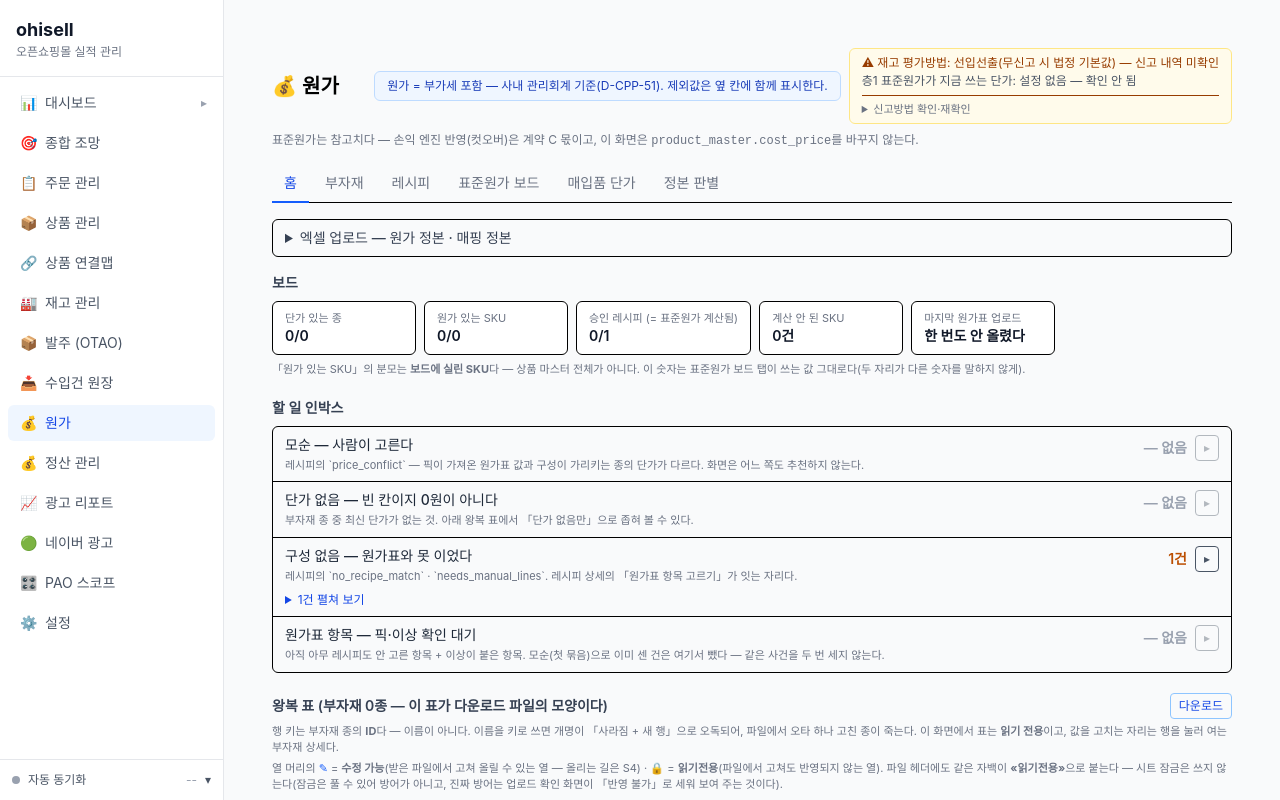
Test: ★원가표 픽이 사람에게 닿는 경로 — 라우트·페이지·호출부가 한 줄로 이어진다 › PICK-1·2: 레시피 상세에 「원가표 항목 고르기」 패널이 실제로 뜬다
Expected: the heading "💰 원가" is shown, [272,72,339,100]
Click the button "레시피": (411, 184) [380,165,442,203]
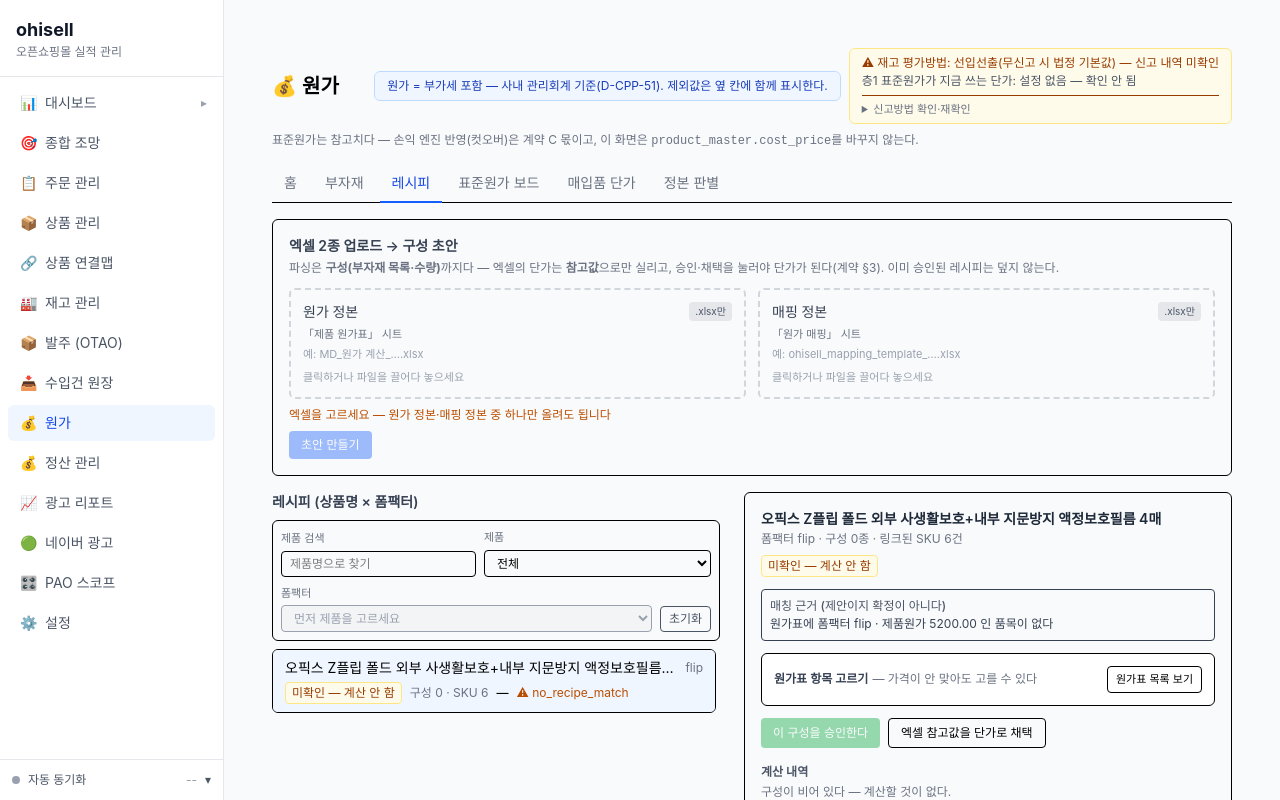
Expected: the heading "원가표 항목 고르기— 가격이 안 맞아도 고를 수 있다" is shown, [774,671,1037,687]
Expected: the text "— 가격이 안 맞아도 고를 수 있다" is shown, [872,671,1037,686]
